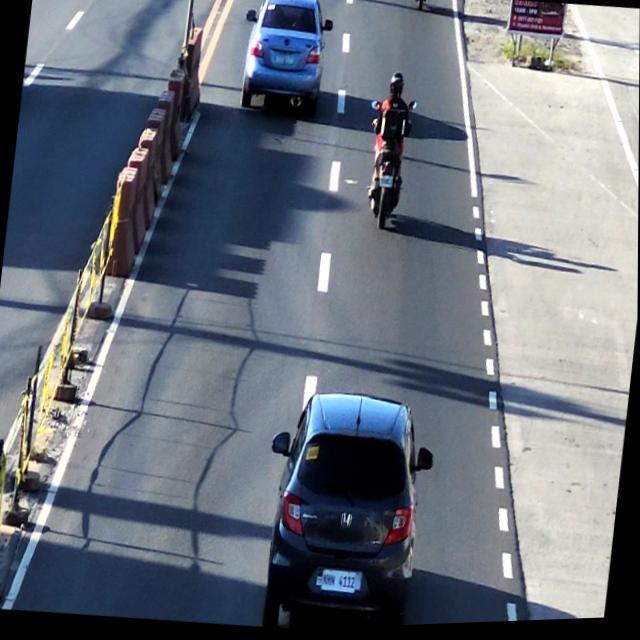Car: (268, 388, 430, 632), (239, 0, 330, 111)
License-Plate: (319, 566, 358, 602), (272, 52, 295, 69), (378, 177, 394, 192)
Motorcycle: (364, 67, 416, 236)
